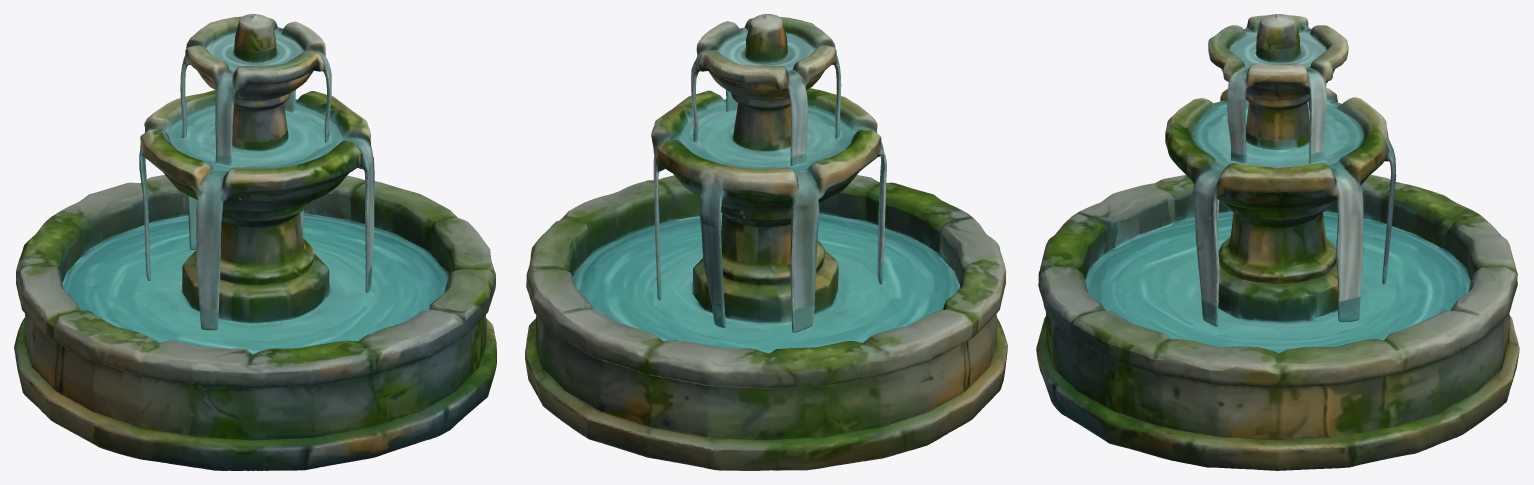
Rendered from fountain.glb.
3 views of the same model, side by side, from view 1: azimuth 30°, elevation 25°; view 2: azimuth 150°, elevation 25°; view 3: azimuth 270°, elevation 25° (orthographic).
Visible parts, largest first — view 1: geometry_0; view 2: geometry_0; view 3: geometry_0.
Boxes of the visible parts, bbox=[...] form: geometry_0: bbox=[14, 14, 496, 470]; geometry_0: bbox=[525, 14, 1007, 470]; geometry_0: bbox=[1036, 14, 1519, 470].
Size of the model in its own units: 1.84 by 1.5 by 1.84.
Materials: 1 (1 with a texture image).
